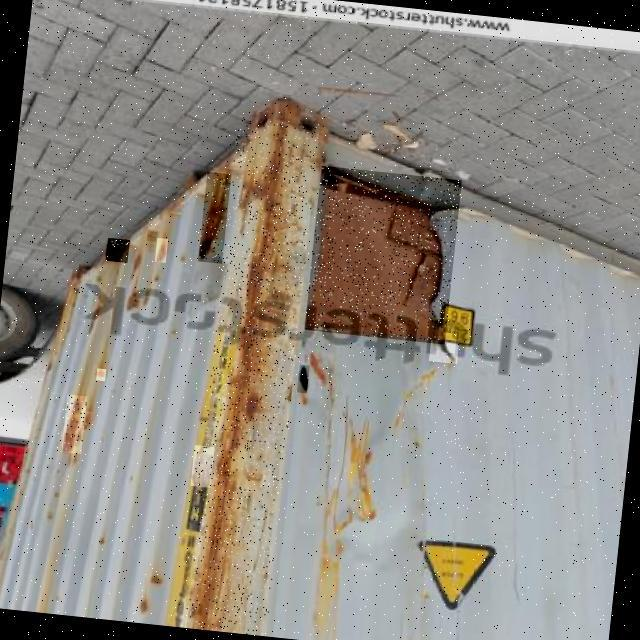Hole: (429, 340, 459, 364), (297, 364, 310, 393)
Rust: (185, 115, 320, 636), (304, 165, 462, 344), (198, 172, 231, 264), (61, 394, 87, 454), (190, 445, 214, 488), (105, 238, 129, 263), (154, 235, 168, 262), (80, 408, 93, 429), (96, 368, 106, 381)
